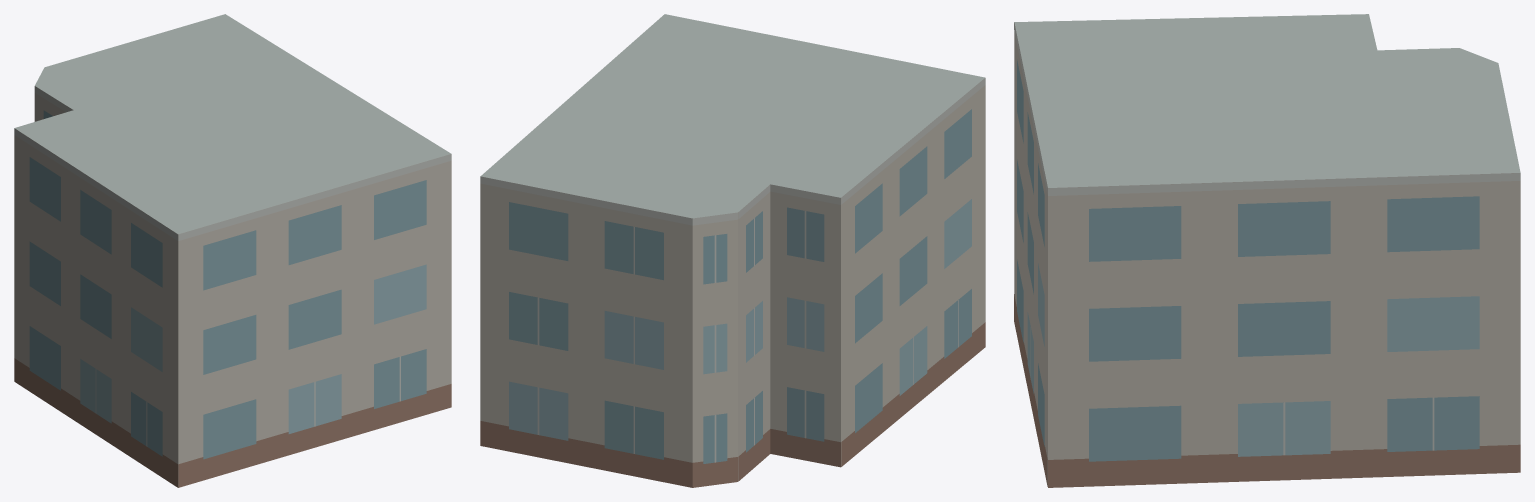
Rendered from survey-upis-32920505.glb.
The picture shows the model from 3 angles, left to right: view 1: azimuth 30°, elevation 25°; view 2: azimuth 150°, elevation 25°; view 3: azimuth 270°, elevation 25°; orthographic projection. The views are drawn at different scales.
Visible parts, largest first — view 1: survey-upis-32920505.tmp; view 2: survey-upis-32920505.tmp; view 3: survey-upis-32920505.tmp.
Boxes of the visible parts, x1,y1,x2,y2 form: survey-upis-32920505.tmp: (14,14,451,487); survey-upis-32920505.tmp: (480,14,985,487); survey-upis-32920505.tmp: (1014,14,1520,487).
Bounding box in the file's own units: 11.34 × 9.1 × 13.94.
